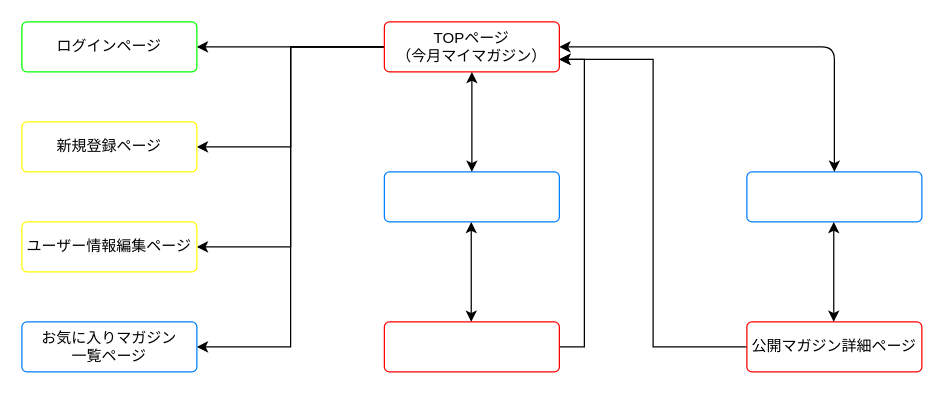
Image size: 944x394. Some labels were removed from this diagram. The shapes that lost their labels are listed below. From the top down, each one's box as (x1, y1, x2, y2) in pixels, then its label:
(383, 171, 559, 222): マイマガジン一覧ページ
(746, 171, 922, 222): 公開マガジン一覧ページ
(383, 321, 559, 372): マイマガジン詳細ページ
